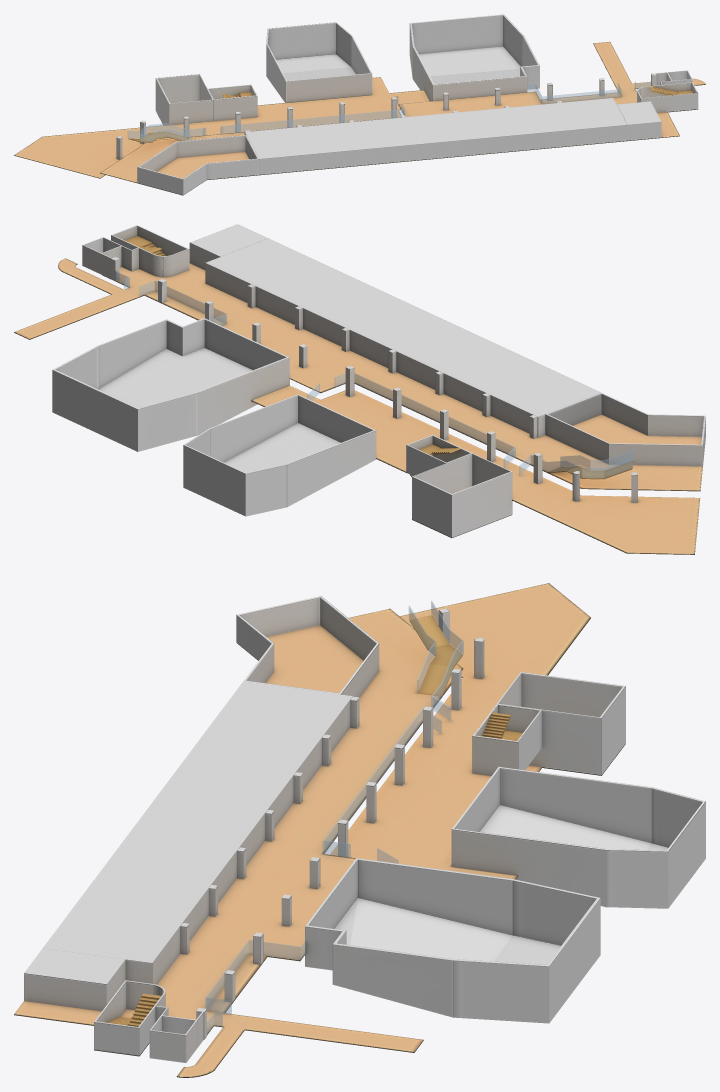
The picture shows the model from 3 angles, top to bottom: view 1: azimuth 30°, elevation 25°; view 2: azimuth 150°, elevation 25°; view 3: azimuth 270°, elevation 25°; orthographic projection. The views are drawn at different scales.
Visible parts, largest first — view 1: AS6_L1_Rooms, AS6_L1_Floor, AS6_L1_Fence, AS6_L1_Extrawalls, AS6_L1_Pillars, AS6_L1_Stairs; view 2: AS6_L1_Rooms, AS6_L1_Floor, AS6_L1_Fence, AS6_L1_Pillars, AS6_L1_Extrawalls, AS6_L1_Stairs; view 3: AS6_L1_Rooms, AS6_L1_Floor, AS6_L1_Extrawalls, AS6_L1_Pillars, AS6_L1_Fence, AS6_L1_Stairs.
Part boxes in pixels (box(x1,y1,x2,y2)): AS6_L1_Rooms: box(137, 14, 692, 195); AS6_L1_Floor: box(14, 41, 705, 195); AS6_L1_Fence: box(128, 81, 650, 141); AS6_L1_Extrawalls: box(208, 72, 698, 120); AS6_L1_Pillars: box(116, 73, 656, 159); AS6_L1_Stairs: box(128, 86, 692, 142); AS6_L1_Rooms: box(52, 224, 705, 537); AS6_L1_Floor: box(14, 249, 702, 554); AS6_L1_Fence: box(115, 271, 633, 477); AS6_L1_Pillars: box(111, 257, 637, 502); AS6_L1_Extrawalls: box(101, 225, 472, 475); AS6_L1_Stairs: box(125, 236, 633, 479); AS6_L1_Rooms: box(24, 596, 705, 1062); AS6_L1_Floor: box(14, 583, 625, 1077); AS6_L1_Extrawalls: box(94, 704, 542, 1055); AS6_L1_Pillars: box(180, 608, 484, 1039); AS6_L1_Fence: box(205, 601, 463, 1034); AS6_L1_Stairs: box(106, 615, 522, 1026).
Bounding box in the file's own units: 129 × 8.64 × 75.08.
6 materials, 5 textured.
